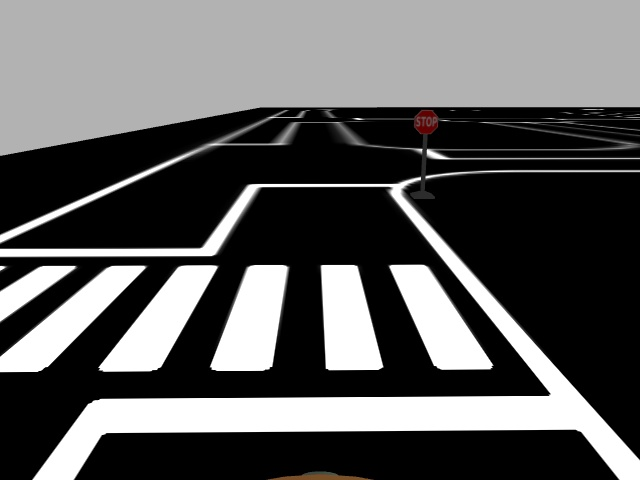stop: (413, 110, 442, 136)
